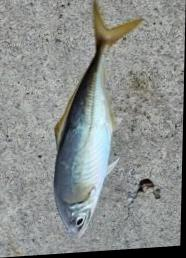fish: (54, 0, 145, 238)
